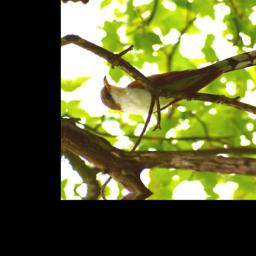Cuckoo: (99, 41, 256, 121)
